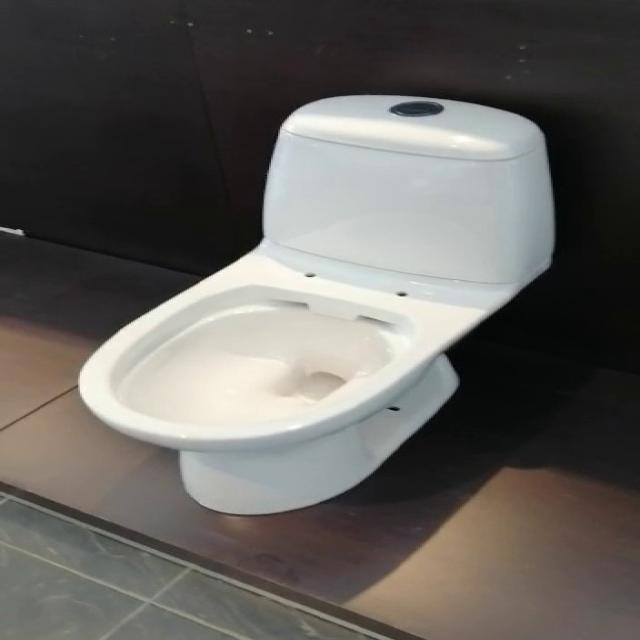toilet: (66, 90, 566, 518)
